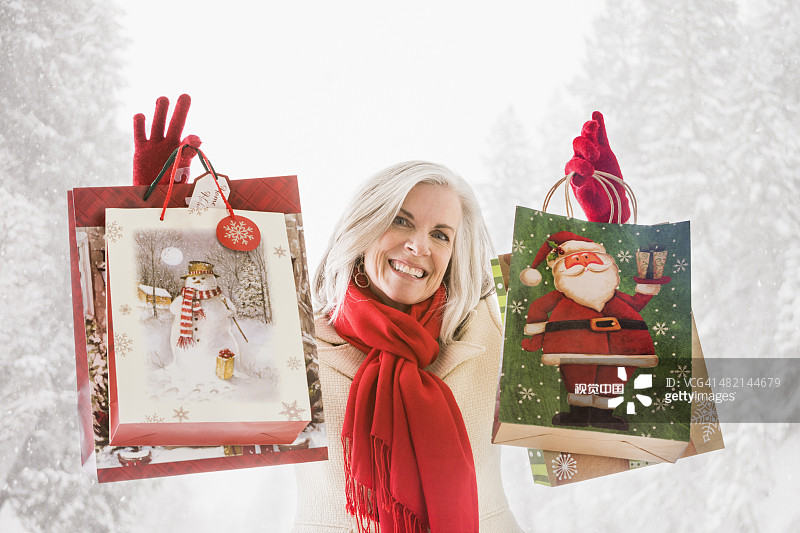no-phone: (109, 78, 209, 198), (558, 96, 645, 222)
